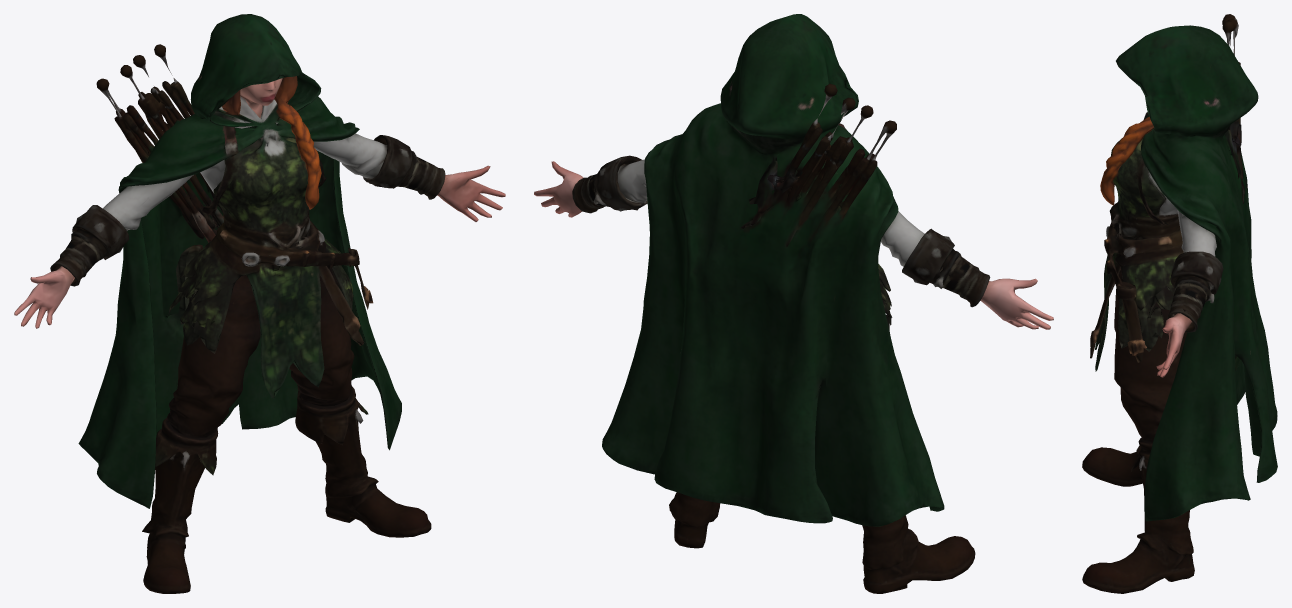
The model's file is ayla_t1.glb.
3 renders of one model, left to right at view 1: azimuth 30°, elevation 25°; view 2: azimuth 150°, elevation 25°; view 3: azimuth 270°, elevation 25°, orthographic. The views are drawn at different scales.
Visible parts, largest first — view 1: geometry_0; view 2: geometry_0; view 3: geometry_0.
Part boxes in pixels (x1=…): geometry_0: x1=14, y1=14, x2=505, y2=593; geometry_0: x1=534, y1=14, x2=1053, y2=593; geometry_0: x1=1082, y1=14, x2=1277, y2=593.
Size of the model in its own units: 0.9601 by 0.9689 by 0.3391.
1 material, 1 textured.
